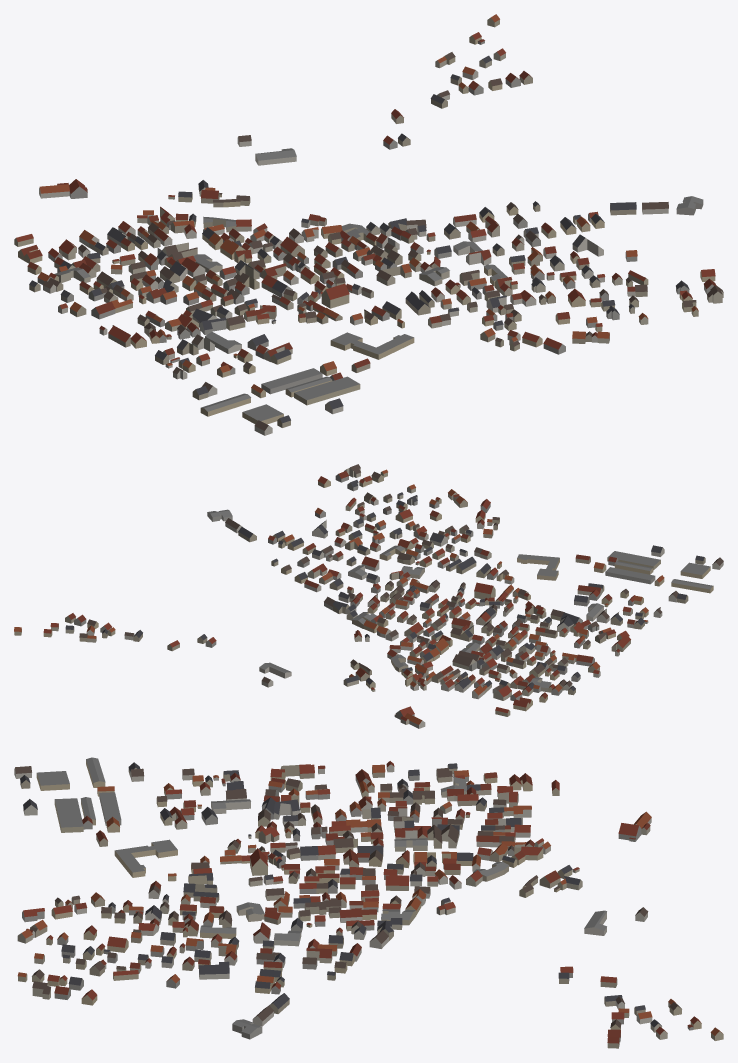
3 renders of one model, top to bottom at view 1: azimuth 30°, elevation 25°; view 2: azimuth 150°, elevation 25°; view 3: azimuth 270°, elevation 25°, orthographic. The views are drawn at different scales.
Parts seen in each view (by area): view 1: buildings; view 2: buildings; view 3: buildings.
Boxes of the visible parts, x1,y1,x2,y2 form: buildings: [14, 14, 723, 435]; buildings: [14, 464, 723, 728]; buildings: [14, 757, 723, 1048].
Bounding box in the file's own units: 726 × 43.48 × 723.
